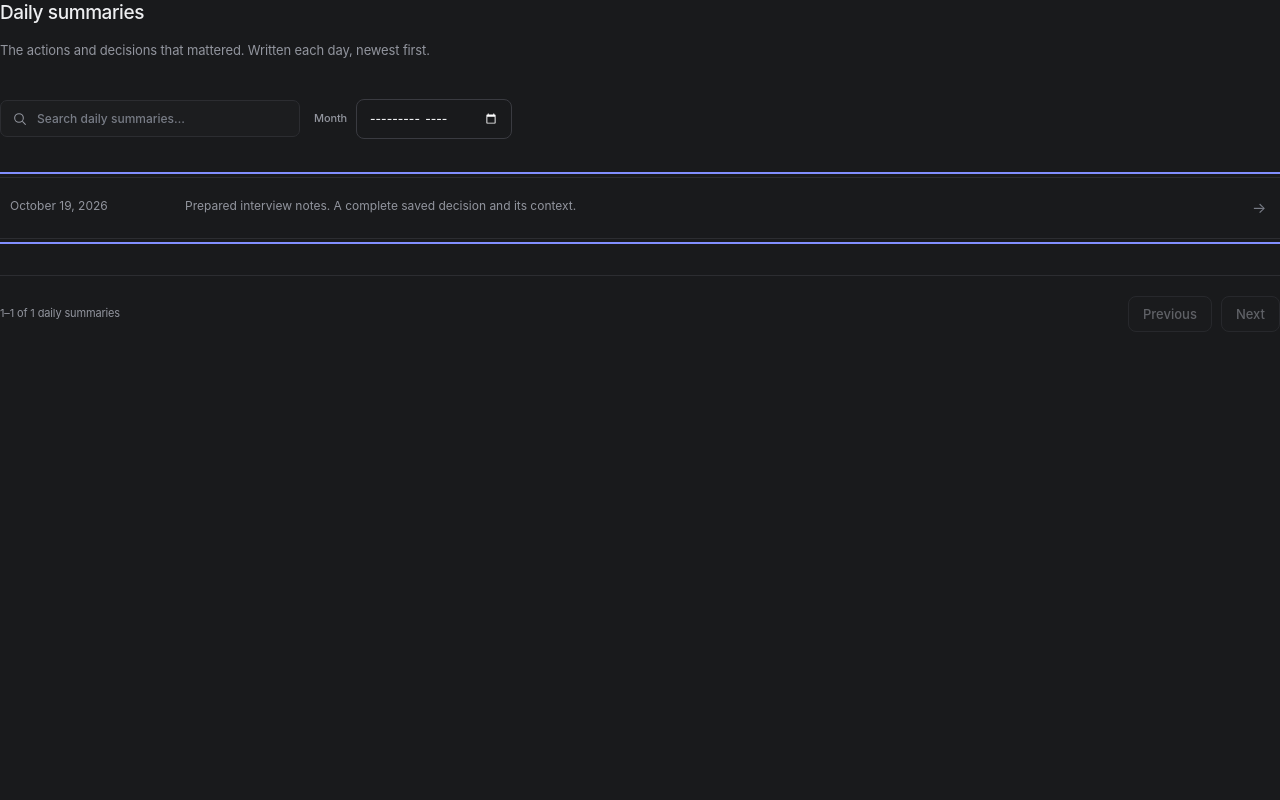
it: memory detail browsing › opens a complete summary and its source in a dismissible dialog
Click the button with aria-label "Read summary for October 19, 2026" at {"x": 59, "y": 205}, box [0, 177, 1279, 239]
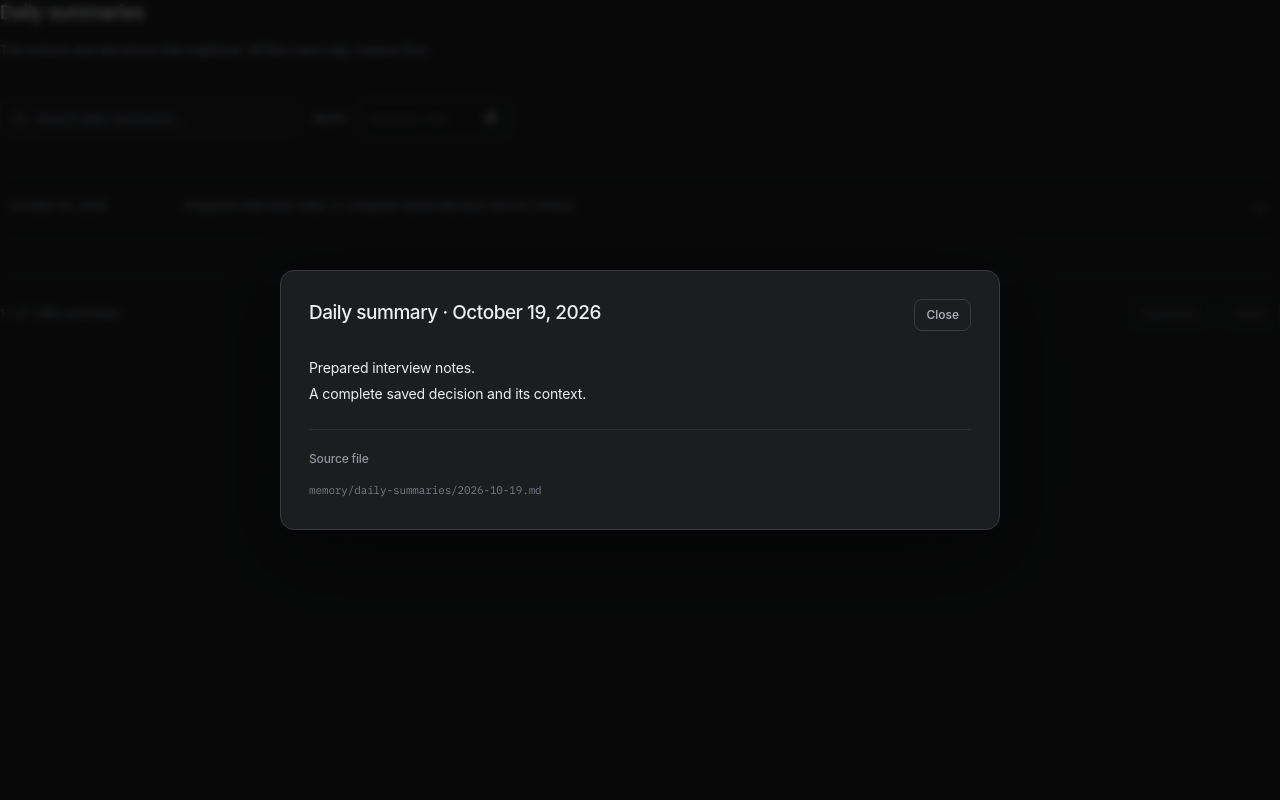
Press Escape
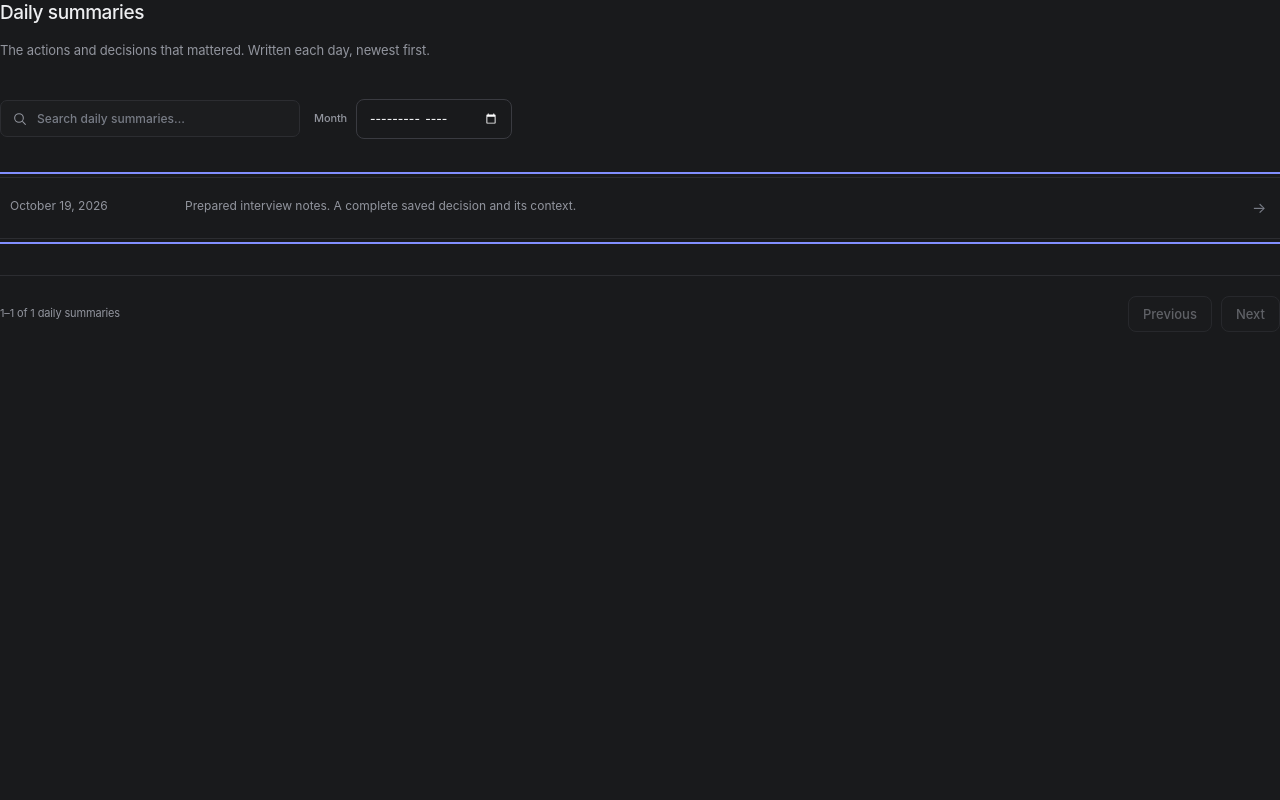
Check: the dialog is gone
